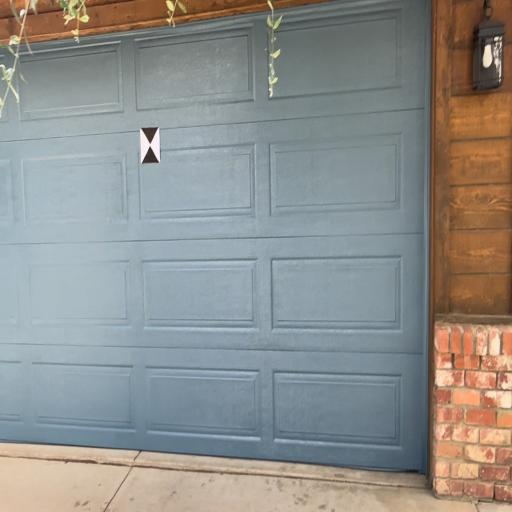target: (140, 128, 161, 162)
